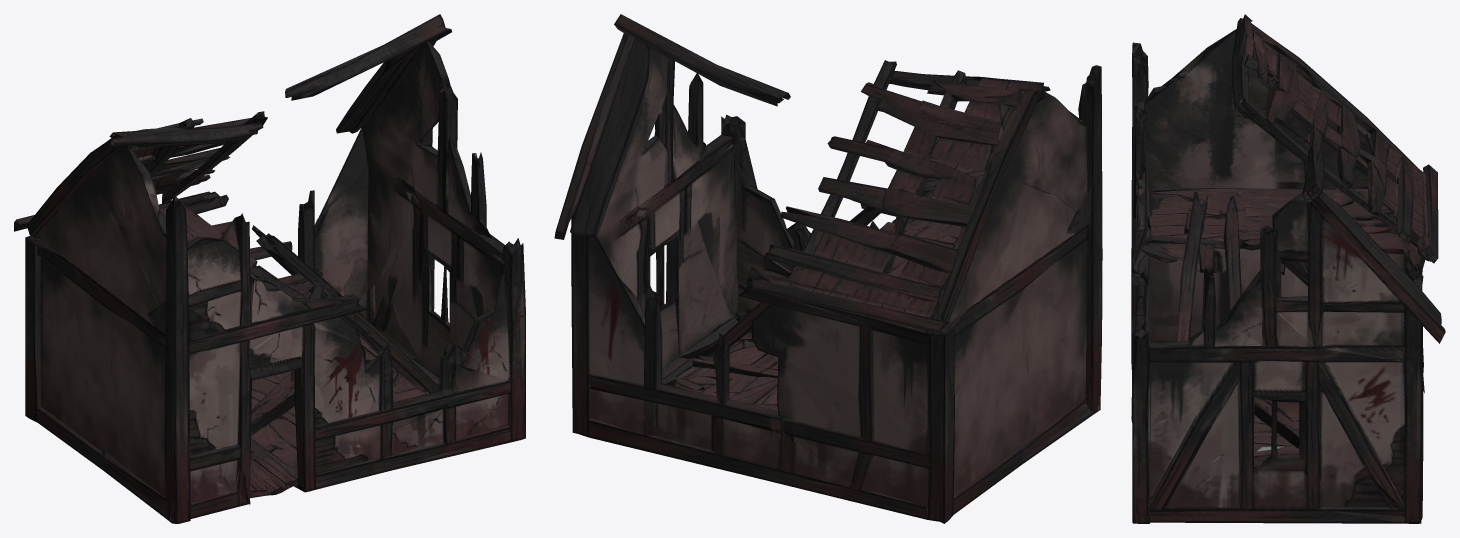
File: prop-ruin.glb
3 views of the same model, side by side, from view 1: azimuth 30°, elevation 25°; view 2: azimuth 150°, elevation 25°; view 3: azimuth 270°, elevation 25° (orthographic). The views are drawn at different scales.
Size of the model in its own units: 1.91 by 1.73 by 1.43.
1 material, 1 textured.
